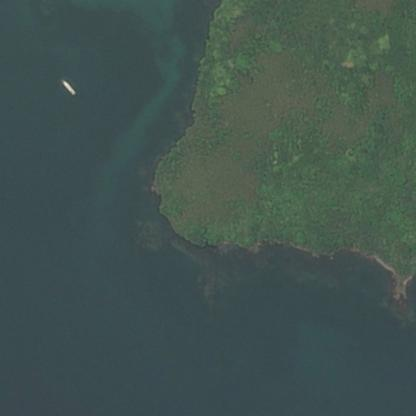ship: (55, 71, 82, 100)
